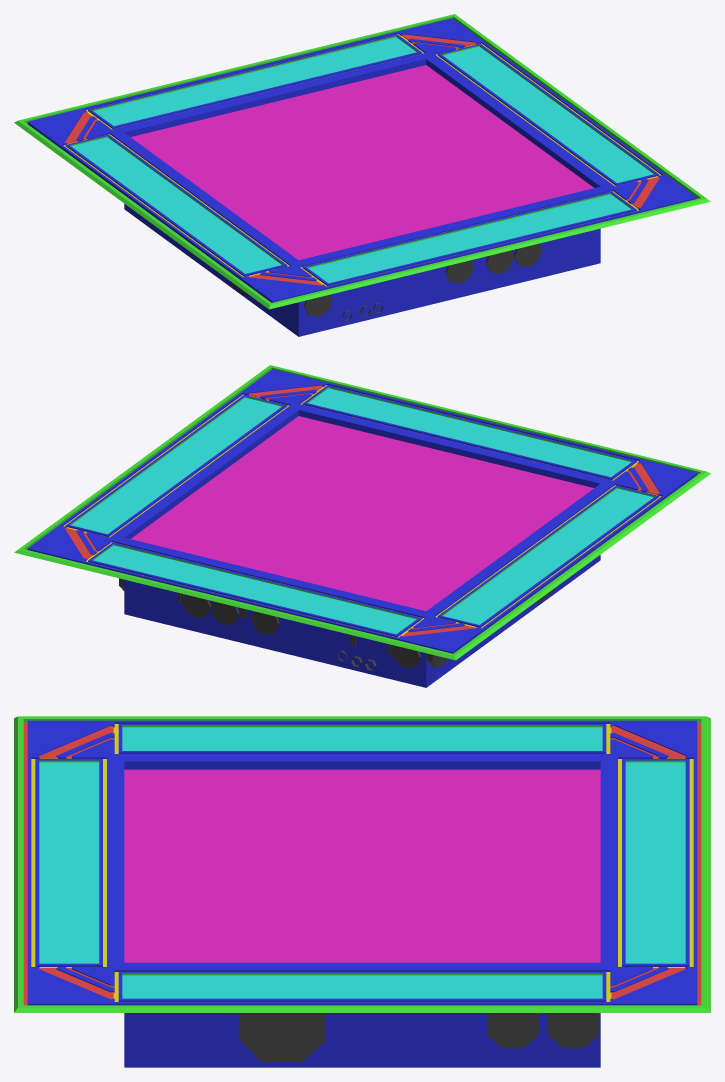
File: Floor_11_G_Middle_B.fbx
The picture shows the model from 3 angles, top to bottom: view 1: azimuth 30°, elevation 25°; view 2: azimuth 150°, elevation 25°; view 3: azimuth 270°, elevation 25°; orthographic projection. The views are drawn at different scales.
Parts seen in each view (by area): view 1: Floor_11_G_Middle_B; view 2: Floor_11_G_Middle_B; view 3: Floor_11_G_Middle_B.
Boxes of the visible parts, x1,y1,x2,y2 form: Floor_11_G_Middle_B: (14,14,710,336); Floor_11_G_Middle_B: (14,365,710,687); Floor_11_G_Middle_B: (14,716,710,1067).
Bounding box in the file's own units: 457 × 75.8 × 457.
